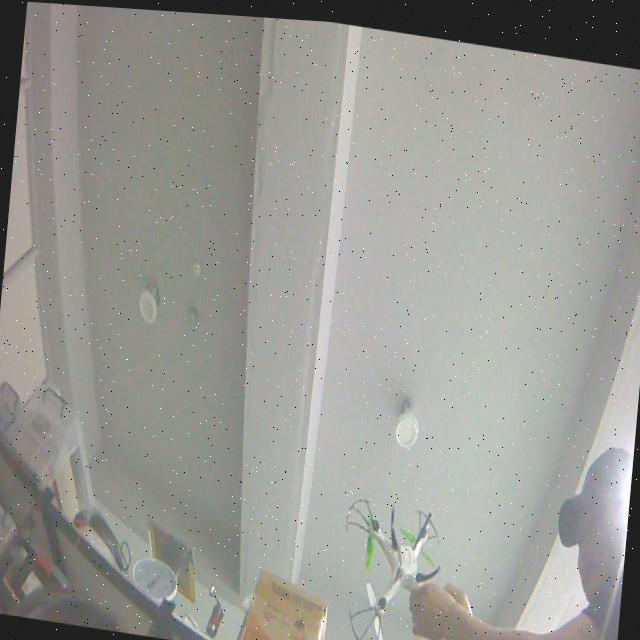drone: (332, 486, 463, 640)
